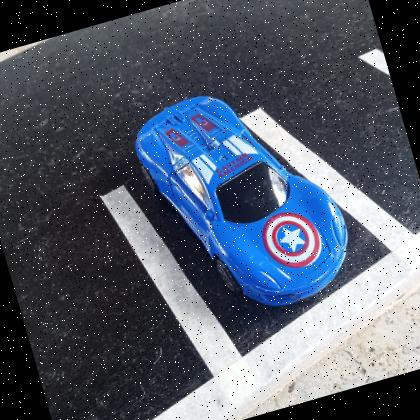Car: (134, 96, 348, 307)
